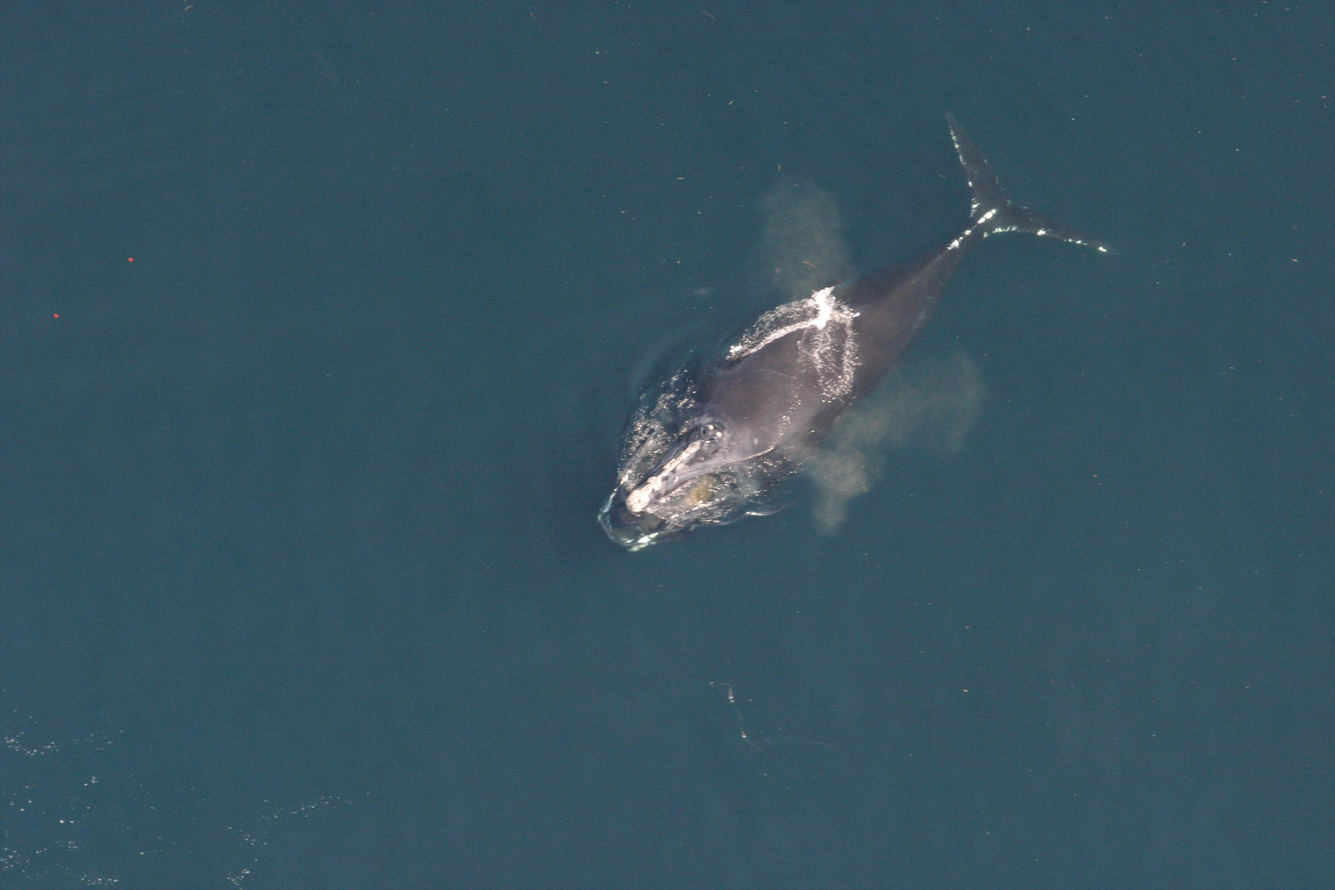whale: (591, 99, 1117, 559)
